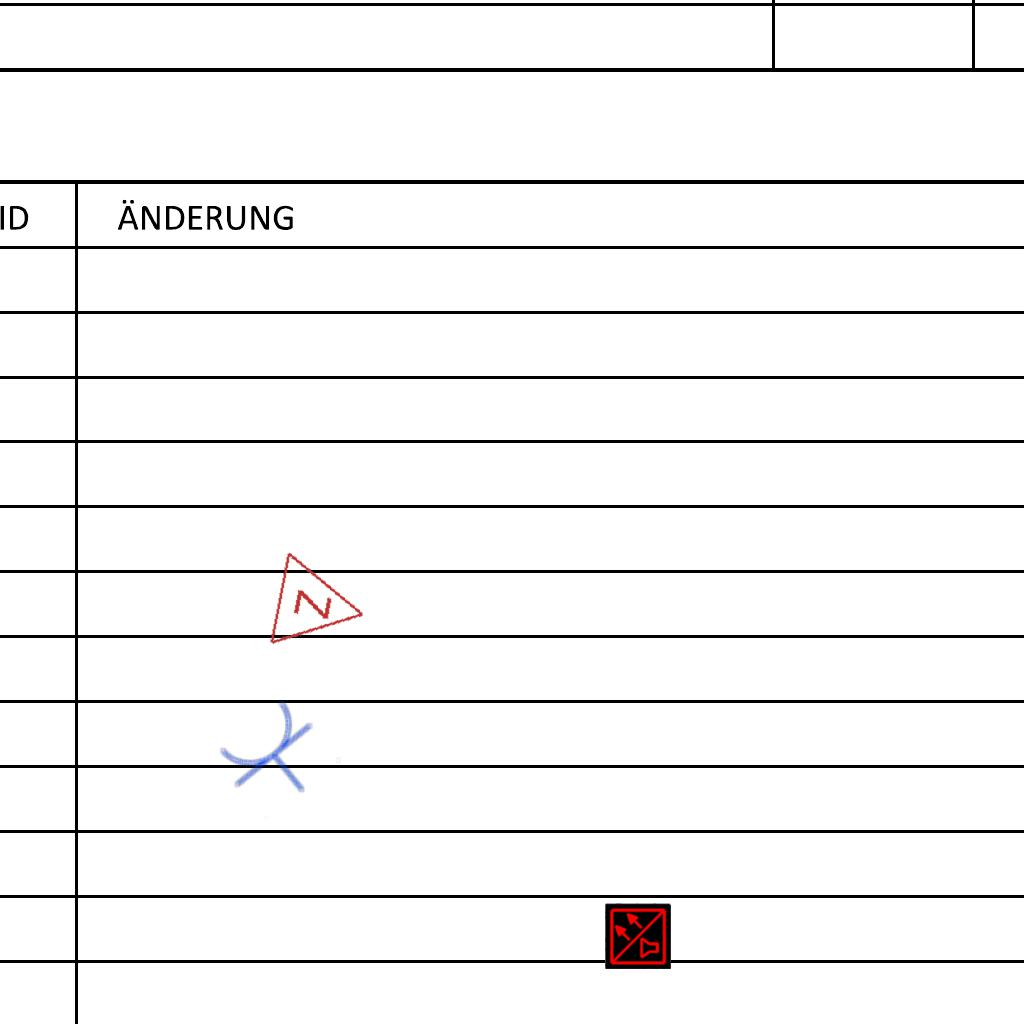OKW_Multisensormelder_(Kombination_optischer_Rauch-Kahlenmonoxid_Waerme-Melder): (605, 903, 671, 969)
Schukosteckdose_einfach: (209, 691, 343, 822)
Zimmersignalleuchte: (262, 547, 380, 663)
